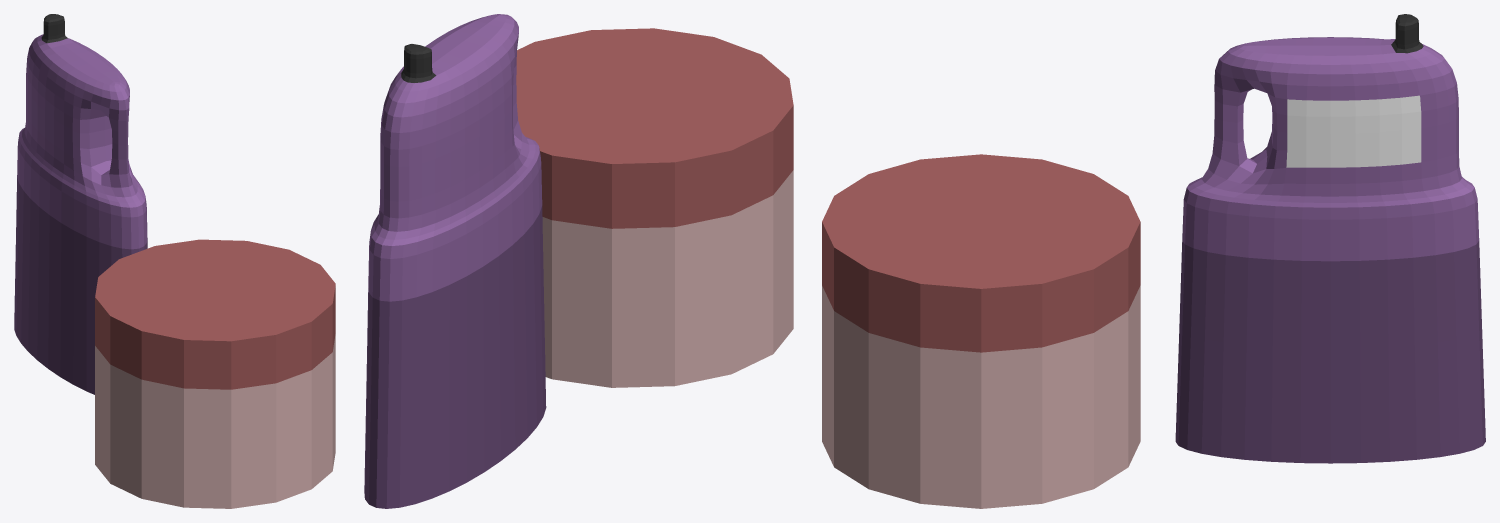
Rendered from Soap Bottles.fbx.
3 renders of one model, left to right at view 1: azimuth 30°, elevation 25°; view 2: azimuth 150°, elevation 25°; view 3: azimuth 270°, elevation 25°, orthographic. The views are drawn at different scales.
Parts seen in each view (by area): view 1: Circle.001, Circle; view 2: Circle.001, Circle; view 3: Circle, Circle.001.
Boxes of the visible parts, x1=… form: Circle.001: x1=95, y1=239, x2=335, y2=508; Circle: x1=14, y1=14, x2=147, y2=394; Circle.001: x1=516, y1=28, x2=793, y2=387; Circle: x1=364, y1=14, x2=546, y2=508; Circle: x1=1175, y1=14, x2=1485, y2=463; Circle.001: x1=822, y1=154, x2=1140, y2=508.
Bounding box in the file's own units: 34 × 49.92 × 70.87.
